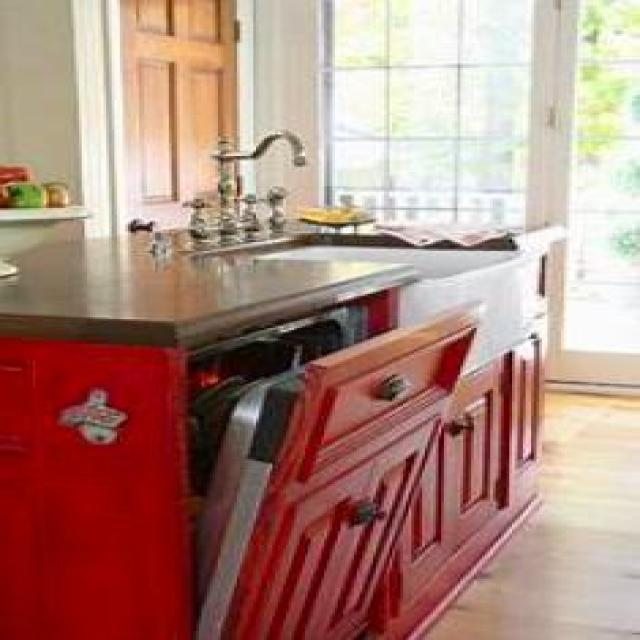dishwasher: (182, 283, 488, 638)
